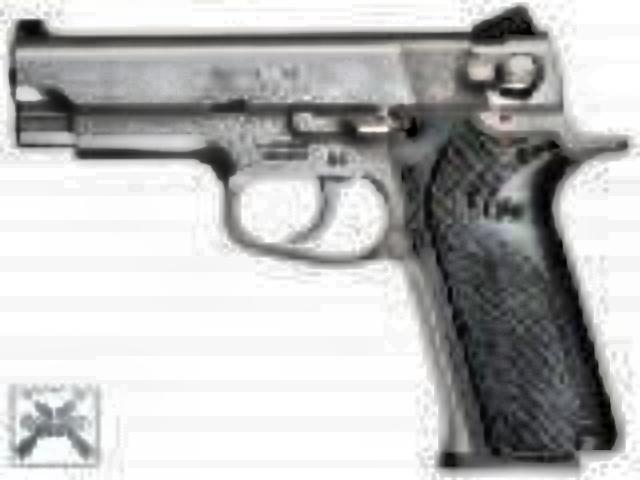pistol: (4, 12, 624, 472)
